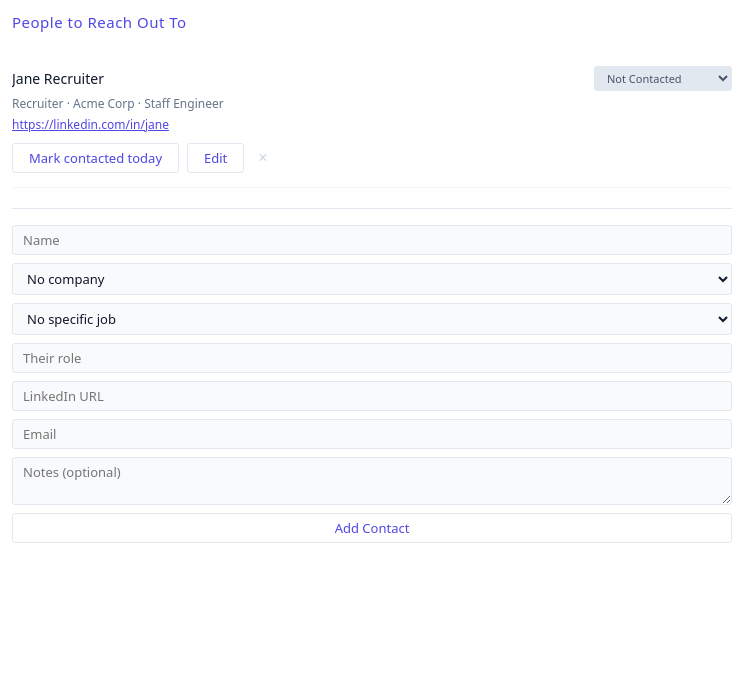
Test case: ContactsList › adds a new contact when form submitted
Expected: the text "Jane Recruiter" is shown, [12,69,104,88]
Type "New Contact" into the field with placeholder "Name" at point(372, 240), box [12,225,732,255]
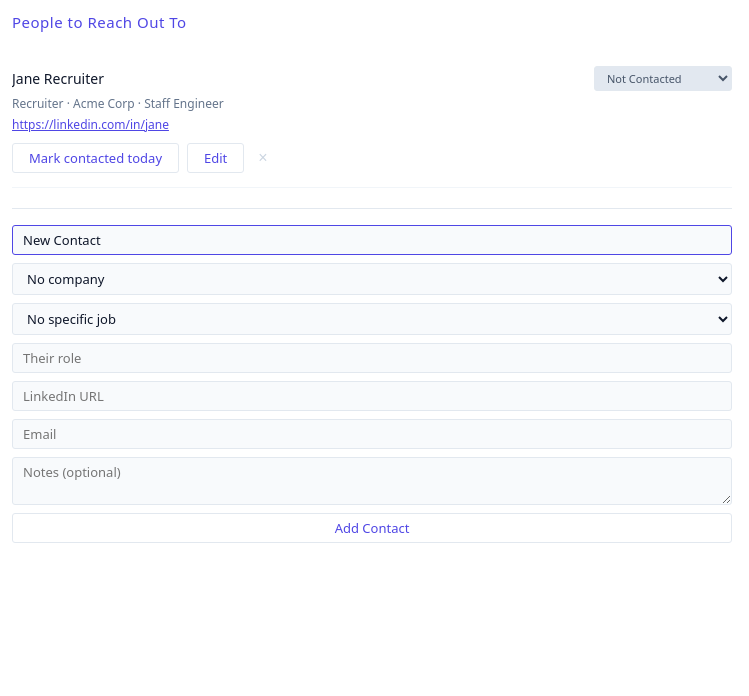
Click the button "Add Contact" at point(372, 528), box [12,513,732,543]
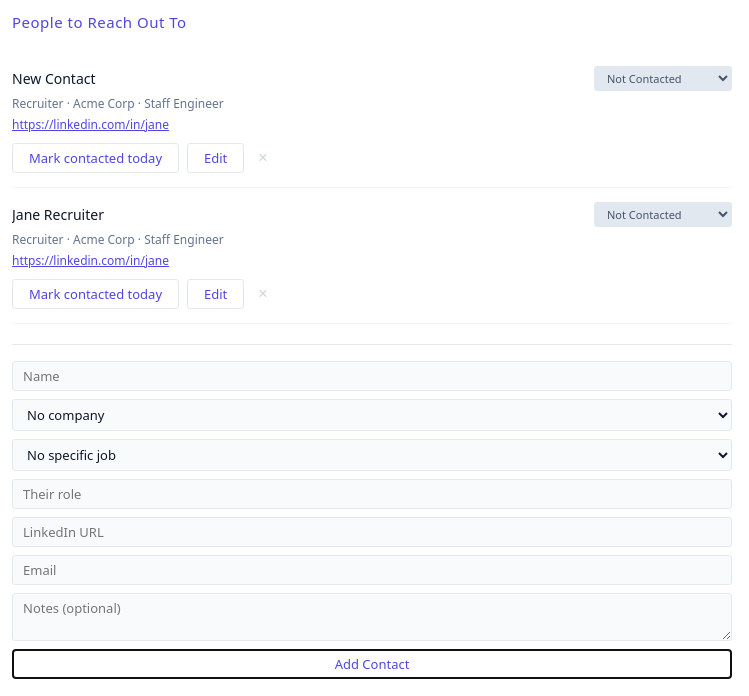
Result: the text "New Contact" is shown at [12,69,96,88]
